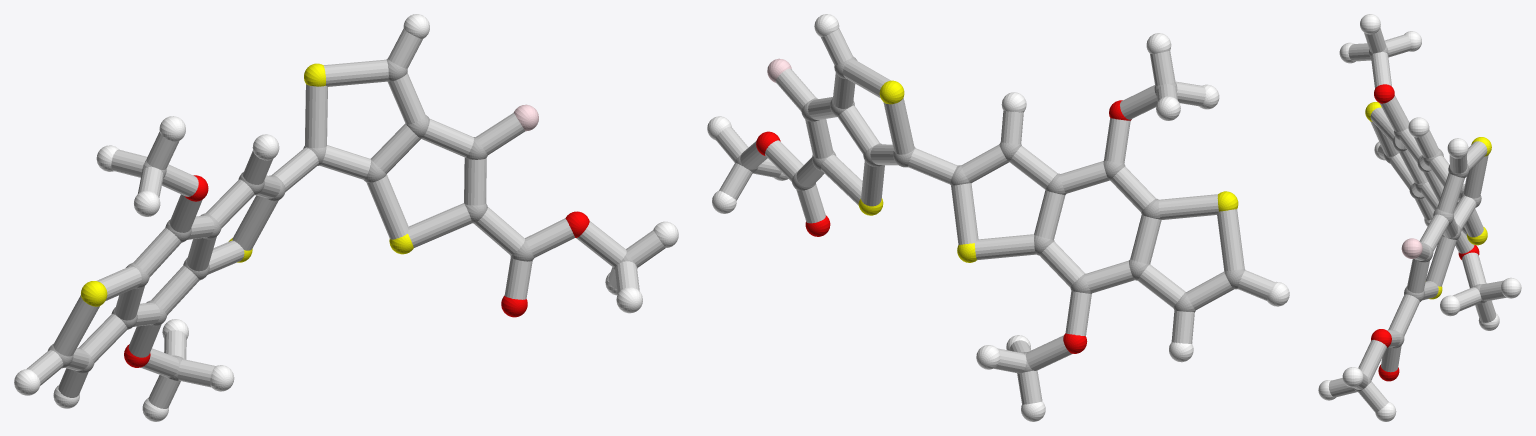
Rendered from Dimethoxy_Benzodithiophene_Phi_30_Theta_310_Methylcarbonyl_3_Fluoro_Thienothiophene.glb.
3 renders of one model, left to right at view 1: azimuth 30°, elevation 25°; view 2: azimuth 150°, elevation 25°; view 3: azimuth 270°, elevation 25°, orthographic. The views are drawn at different scales.
Visible parts, largest first — view 1: grp15205, grp8689, grp1, grp13395, grp7241; view 2: grp15205, grp8689, grp1, grp7241, grp13395; view 3: grp15205, grp8689, grp1, grp13395, grp7241, grp14843.
Boxes of the visible parts, box(x1,y1,x2,y2) form: grp15205: box(26, 29, 665, 408); grp8689: box(14, 14, 678, 421); grp1: box(48, 58, 637, 380); grp13395: box(124, 175, 589, 367); grp7241: box(81, 63, 413, 306); grp15205: box(715, 28, 1274, 404); grp8689: box(707, 14, 1289, 421); grp1: box(735, 56, 1245, 372); grp7241: box(858, 80, 1238, 262); grp13395: box(756, 100, 1131, 353); grp15205: box(1328, 28, 1506, 412); grp8689: box(1318, 14, 1521, 421); grp1: box(1353, 45, 1486, 391); grp13395: box(1371, 84, 1479, 381); grp7241: box(1365, 102, 1491, 299); grp14843: box(1401, 238, 1422, 258).
Size of the model in its own units: 16.65 by 9.26 by 5.83.
